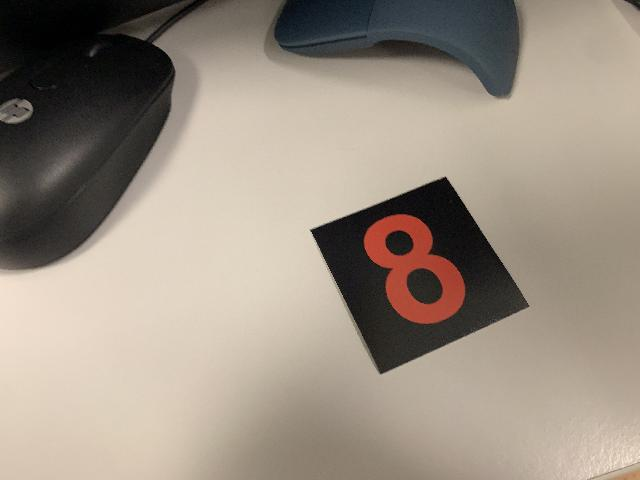eight: (308, 173, 533, 376)
